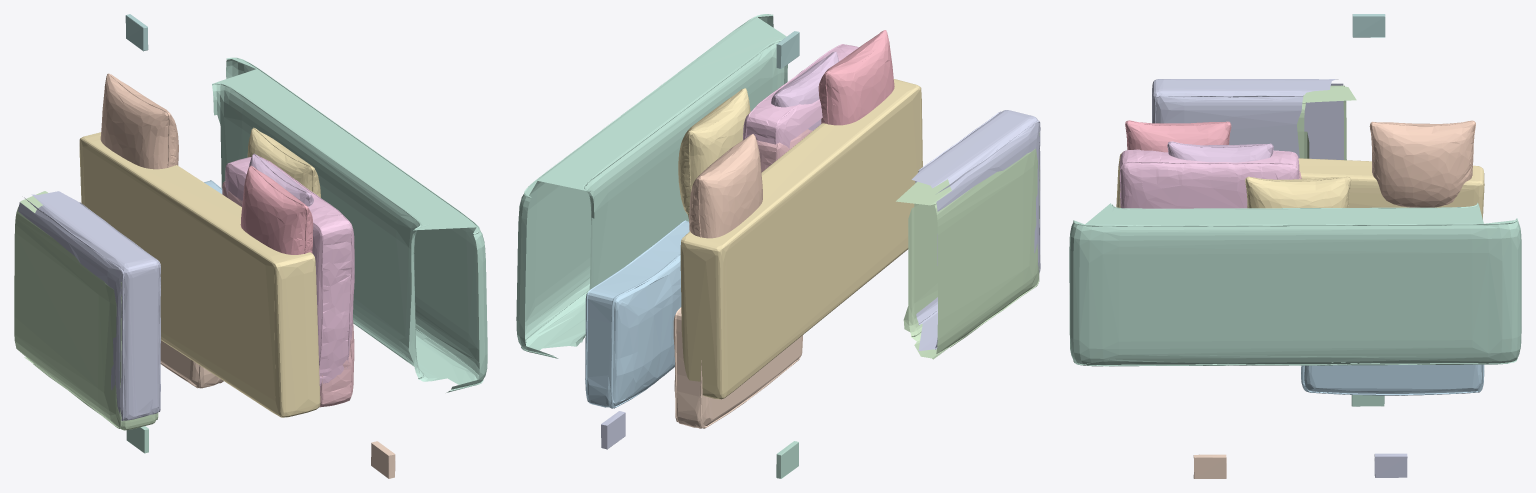
The model's file is view_input_colored.glb.
The picture shows the model from 3 angles, left to right: view 1: azimuth 30°, elevation 25°; view 2: azimuth 150°, elevation 25°; view 3: azimuth 270°, elevation 25°; orthographic projection. The views are drawn at different scales.
Parts seen in each view (by area): view 1: world; view 2: world; view 3: world.
Part boxes in pixels (left/top/right/bottom): world: left=14, top=14, right=487, bottom=478; world: left=516, top=14, right=1040, bottom=478; world: left=1069, top=14, right=1521, bottom=478.
Bounding box in the file's own units: 0.7101 × 0.8769 × 0.9191.
